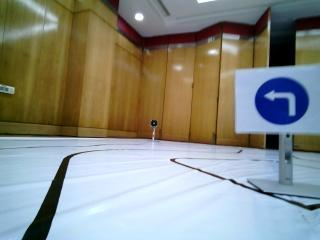left: (237, 71, 320, 132)
